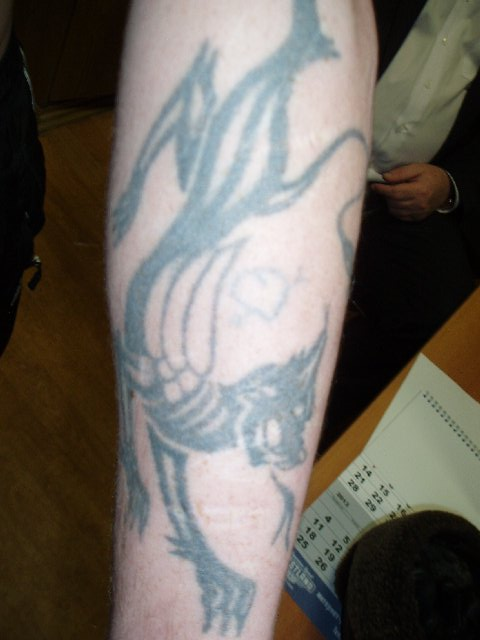tatu6_drakon: (85, 4, 318, 640)
